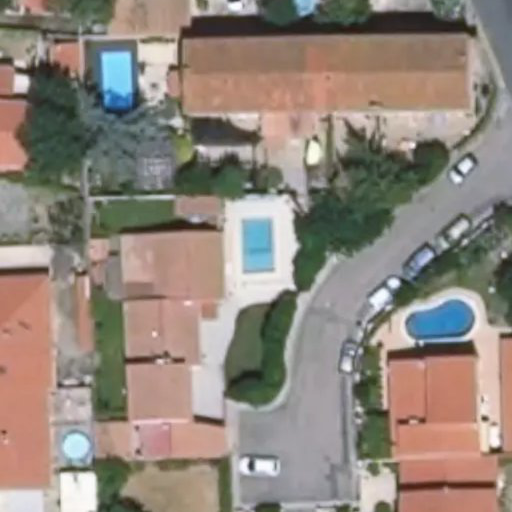pool: (400, 295, 479, 339), (239, 215, 278, 275), (99, 52, 133, 113)
